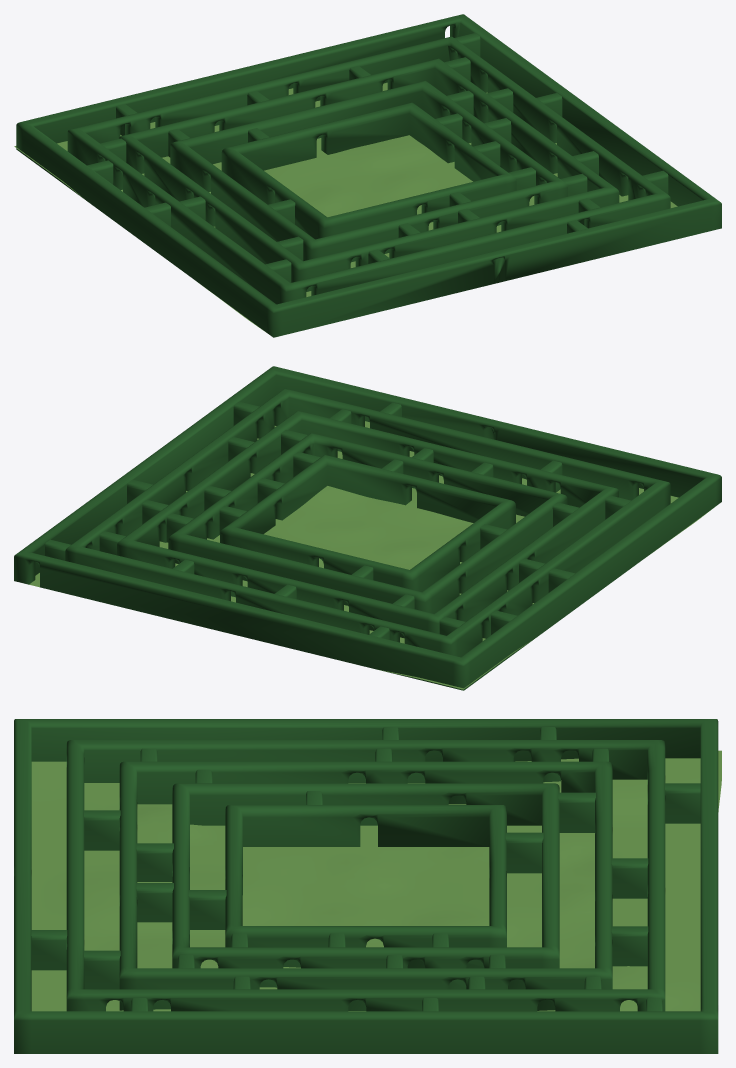
The model's file is Maze 9.fbx.
3 renders of one model, top to bottom at view 1: azimuth 30°, elevation 25°; view 2: azimuth 150°, elevation 25°; view 3: azimuth 270°, elevation 25°, orthographic. The views are drawn at different scales.
Parts seen in each view (by area): view 1: Walls 1.009, Walls 2.009, Walls 3.009, Walls 4.010, Walls 5.009, Floor.010; view 2: Walls 1.009, Walls 2.009, Walls 3.009, Walls 4.010, Walls 5.009, Floor.010; view 3: Floor.010, Walls 1.009, Walls 2.009, Walls 3.009, Walls 4.010, Walls 5.009, Bush Blocker.255, Bush Blocker.256, Bush Blocker.257, Bush Blocker.258, Bush Blocker.251, Bush Blocker.249 (+5 smaller).
Part boxes in pixels (<box>): Walls 1.009: <box>16,14,721,337</box>; Walls 2.009: <box>67,36,670,304</box>; Walls 3.009: <box>119,58,619,291</box>; Walls 4.010: <box>170,80,567,262</box>; Walls 5.009: <box>221,102,516,239</box>; Floor.010: <box>14,82,677,331</box>; Walls 1.009: <box>14,366,721,690</box>; Walls 2.009: <box>65,388,670,657</box>; Walls 3.009: <box>117,411,618,637</box>; Walls 4.010: <box>168,433,567,613</box>; Walls 5.009: <box>220,455,515,591</box>; Floor.010: <box>29,421,714,689</box>; Floor.010: <box>31,750,721,1011</box>; Walls 1.009: <box>14,719,718,1053</box>; Walls 2.009: <box>66,740,665,1011</box>; Walls 3.009: <box>119,761,612,1010</box>; Walls 4.010: <box>172,783,559,989</box>; Walls 5.009: <box>225,805,506,968</box>; Bush Blocker.255: <box>505,832,543,873</box>; Bush Blocker.256: <box>558,792,595,832</box>; Bush Blocker.257: <box>611,858,648,898</box>; Bush Blocker.258: <box>611,926,648,966</box>; Bush Blocker.251: <box>84,810,120,850</box>; Bush Blocker.249: <box>31,930,67,970</box>.
Bounding box in the file's own units: 6009 × 368 × 5992.
